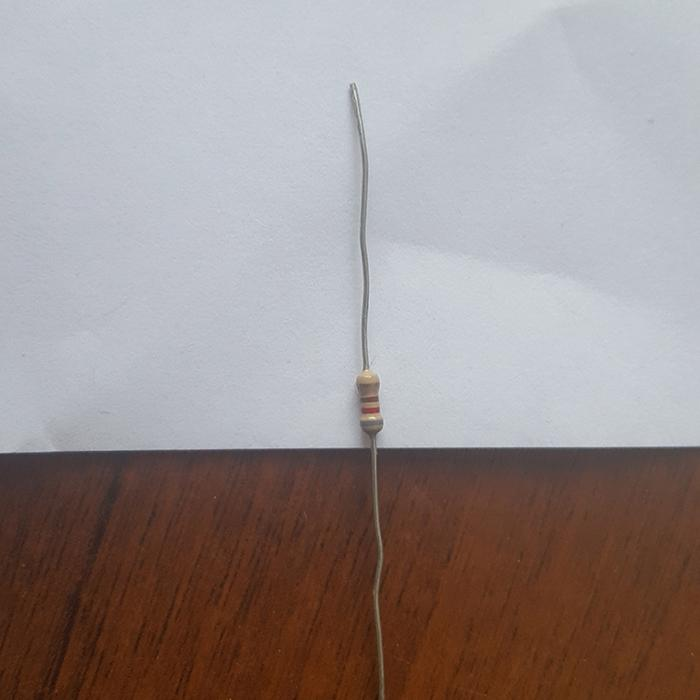resistor: (356, 369, 384, 433)
